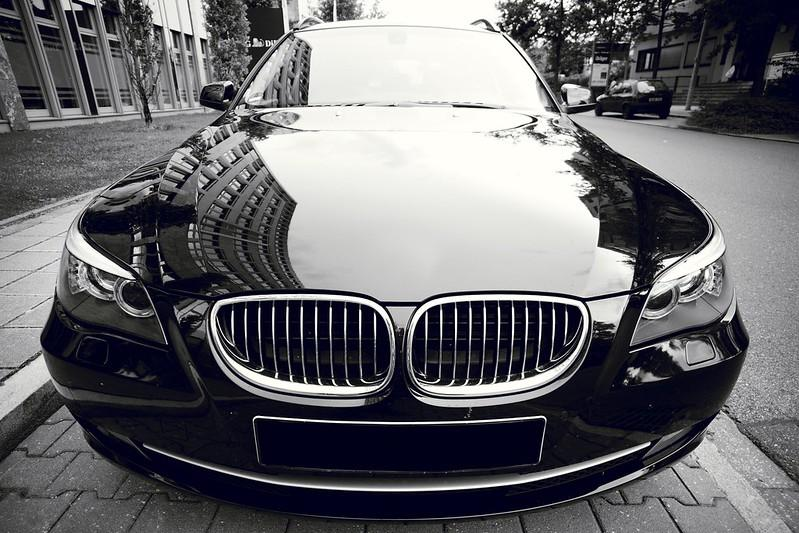windshield: (233, 29, 564, 111)
